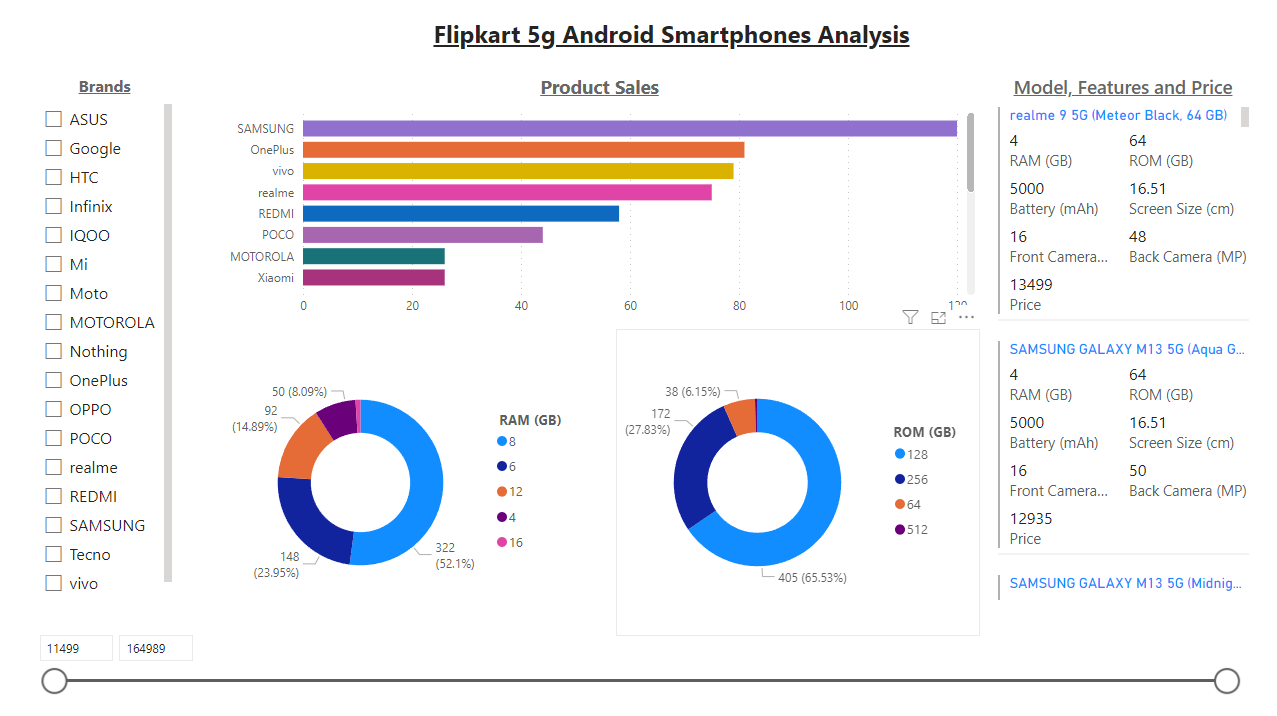

The dashboard page shown, as its layout file describes it:
{"tool":"powerbi","page":{"name":"Page 1","canvas":[1280,720],"ordinal":0},"visuals":[{"type":"slicer","title":"Average Price ","fields":{"Values":["5gPhones.brand"]},"box":[34.7,75.6,144,534.3],"z":0},{"type":"textbox","box":[331,26.6,686.5,49],"z":1000},{"type":"clusteredBarChart","title":"Product Sales","fields":{"Category":["5gPhones.brand"],"Y":["CountNonNull(5gPhones.name)"]},"box":[221.7,94,761.1,249.3],"z":2000},{"type":"slicer","fields":{"Values":["5gPhones.price_processed"]},"box":[34.7,624.2,1165.6,76.6],"z":3000},{"type":"multiRowCard","title":"Model, Features and Price","fields":{"Values":["Sum(5gPhones.ram_processed)","Sum(5gPhones.rom_processed)","Sum(5gPhones.processed_battery)","Sum(5gPhones.screen_processed)","Sum(5gPhones.front_camera_processed)","Sum(5gPhones.back_camera_processed)","5gPhones.name","5gPhones.Price"]},"box":[995,94,261.5,530.2],"z":3001},{"type":"donutChart","fields":{"Category":["5gPhones. RAM (GB)"],"Y":["CountNonNull(5gPhones.Price)"]},"box":[221.7,343.2,364.7,306.5],"z":3002},{"type":"donutChart","fields":{"Y":["CountNonNull(5gPhones.Price)"],"Category":["5gPhones.ROM (GB)"]},"box":[618,343.2,364.7,306.5],"z":3003}]}

Visuals, with their boxes in screenshot pixels (x1, y1, x2, y2), scaled from the page's 1280x720 canvas onto the 1277x716 screenshot:
"Average Price " slicer: {"left": 35, "top": 75, "right": 178, "bottom": 607}
textbox: {"left": 330, "top": 26, "right": 1015, "bottom": 75}
"Product Sales" clusteredBarChart: {"left": 221, "top": 93, "right": 980, "bottom": 341}
slicer - 5gPhones.price_processed: {"left": 35, "top": 621, "right": 1197, "bottom": 697}
"Model, Features and Price" multiRowCard: {"left": 993, "top": 93, "right": 1254, "bottom": 621}
donutChart - 5gPhones. RAM (GB) x CountNonNull(5gPhones.Price): {"left": 221, "top": 341, "right": 585, "bottom": 646}
donutChart - CountNonNull(5gPhones.Price) x 5gPhones.ROM (GB): {"left": 617, "top": 341, "right": 980, "bottom": 646}
